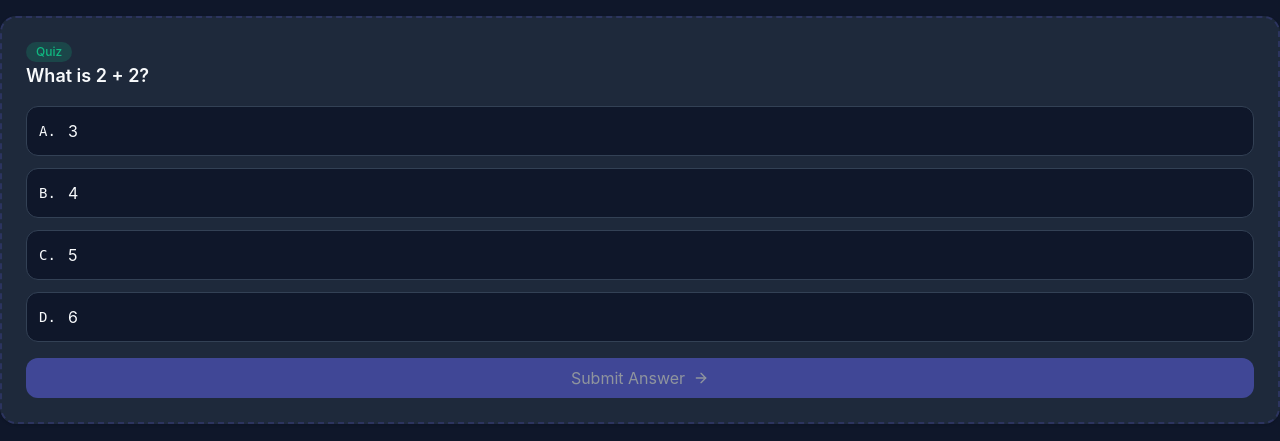
QuizWidget › enables submit button when option selected
This screenshot has width=1280, height=441.
Click the text "4" at (73, 193), box x1=68 y1=181 x2=78 y2=205
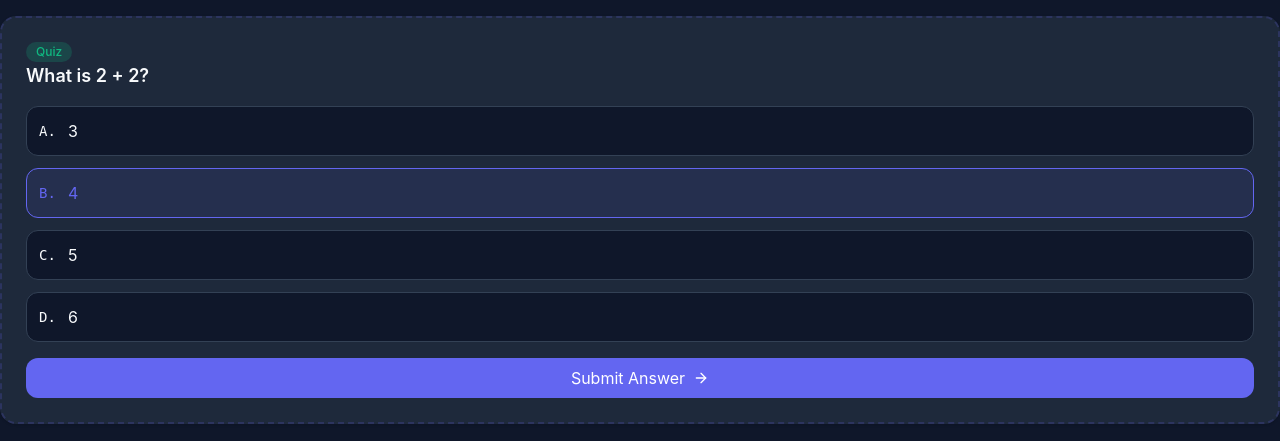
Expected: the button "Submit Answer" is enabled, x1=26 y1=358 x2=1254 y2=398
